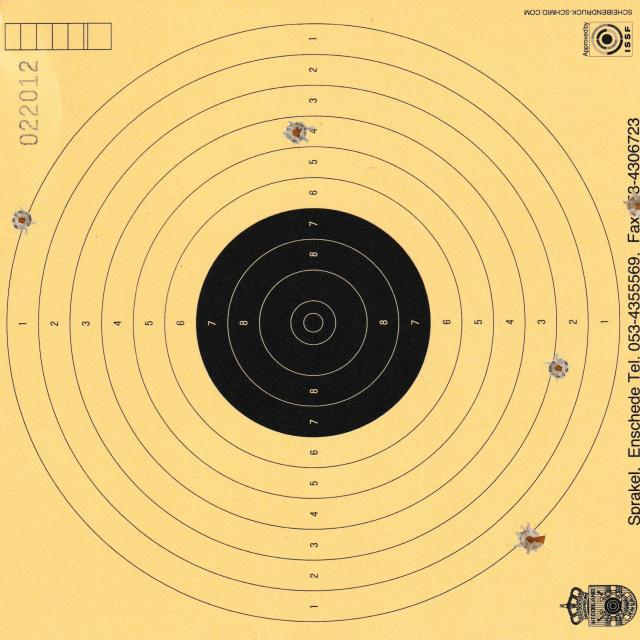0: (627, 193, 640, 218)
1: (516, 524, 550, 552), (8, 208, 37, 231)
3: (548, 355, 570, 379)
4: (280, 122, 308, 144)
Target: (5, 19, 622, 624)
black_contour: (196, 209, 432, 438)
